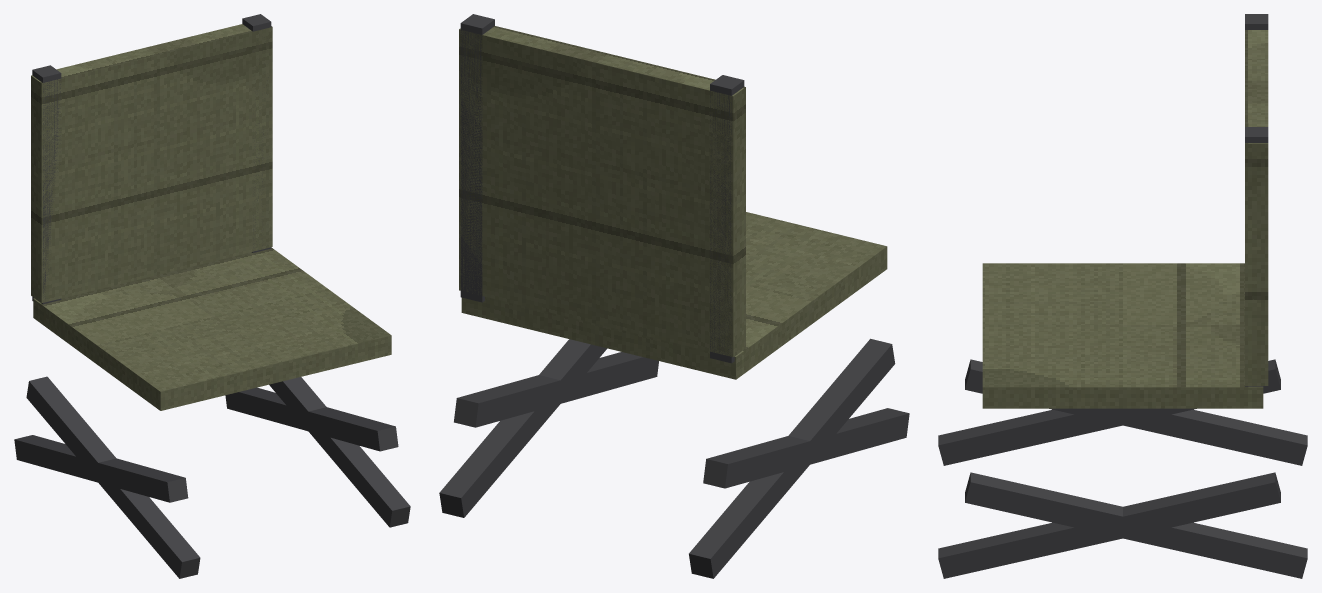
The model's file is fb_field_chair.glb.
The picture shows the model from 3 angles, left to right: view 1: azimuth 30°, elevation 25°; view 2: azimuth 150°, elevation 25°; view 3: azimuth 270°, elevation 25°; orthographic projection. The views are drawn at different scales.
Visible parts, largest first — view 1: fb_field_chair; view 2: fb_field_chair; view 3: fb_field_chair.
Boxes of the visible parts, box(x1,y1,x2,y2) form: fb_field_chair: box(14, 14, 410, 578); fb_field_chair: box(439, 14, 909, 578); fb_field_chair: box(938, 14, 1307, 578).
Size of what is drawn, in the model's own units: 0.44 by 0.7299 by 0.553.
2 materials, 1 textured.
